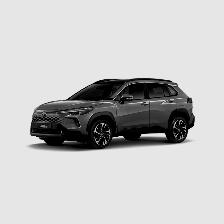NON-EV: (33, 78, 196, 150)
